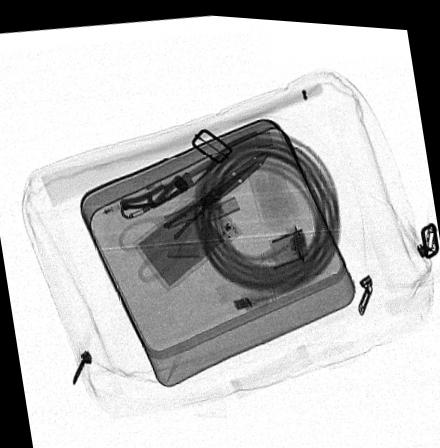Knife: (119, 147, 234, 216)
Powerbank: (132, 185, 240, 288)
Scissors: (116, 145, 267, 280)
